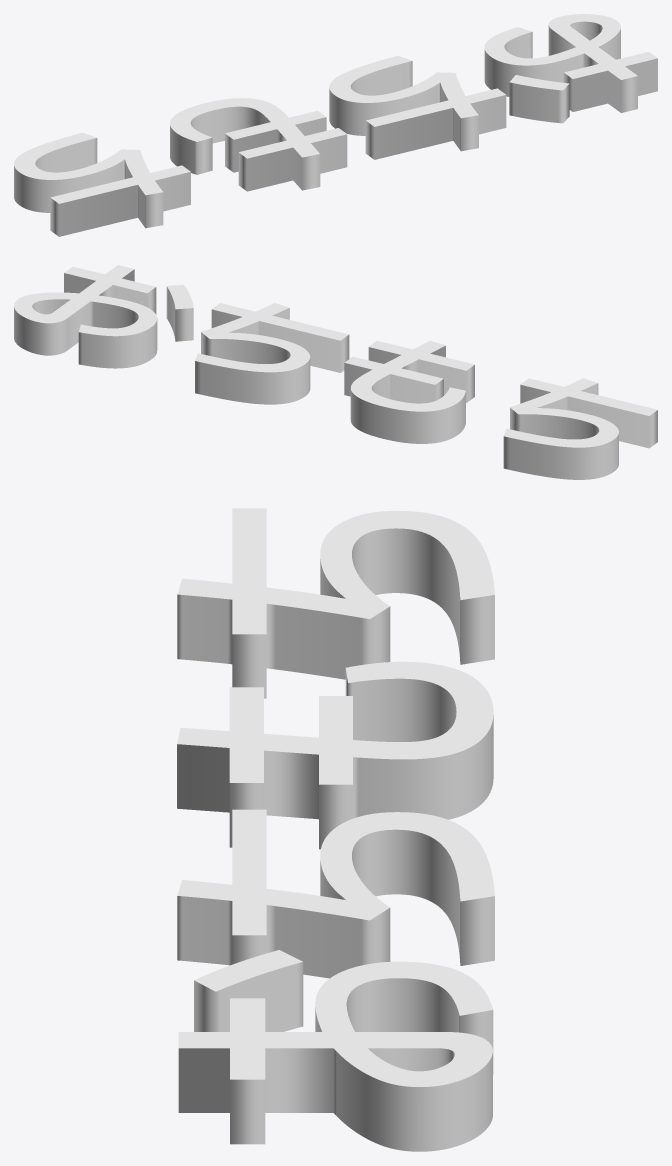
Rendered from title.obj.
3 views of the same model, one above another, from view 1: azimuth 30°, elevation 25°; view 2: azimuth 150°, elevation 25°; view 3: azimuth 270°, elevation 25° (orthographic). The views are drawn at different scales.
Parts seen in each view (by area): view 1: テキスト; view 2: テキスト; view 3: テキスト.
Boxes of the visible parts, x1=… form: テキスト: x1=14, y1=14, x2=657, y2=236; テキスト: x1=14, y1=265, x2=657, y2=479; テキスト: x1=177, y1=508, x2=494, y2=1151.
Bounding box in the file's own units: 3.84 × 0.2 × 0.8921.
Materials: 1 (1 with a texture image).
